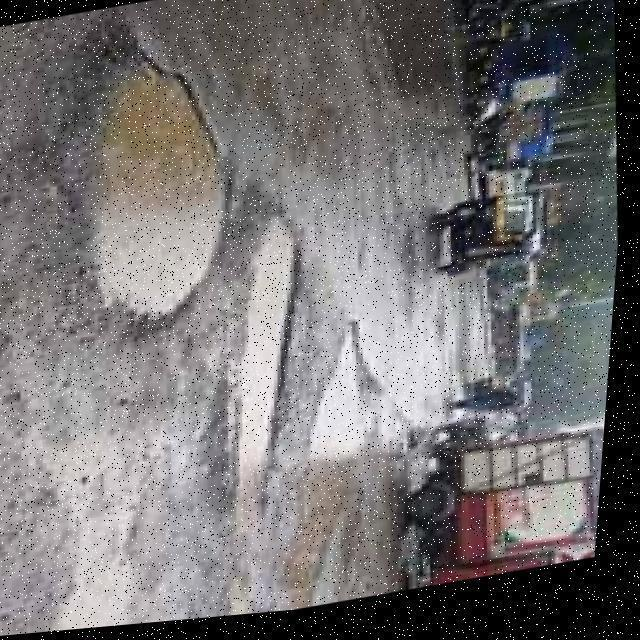Pothole: (36, 19, 241, 338), (276, 310, 384, 609), (221, 213, 306, 548)
